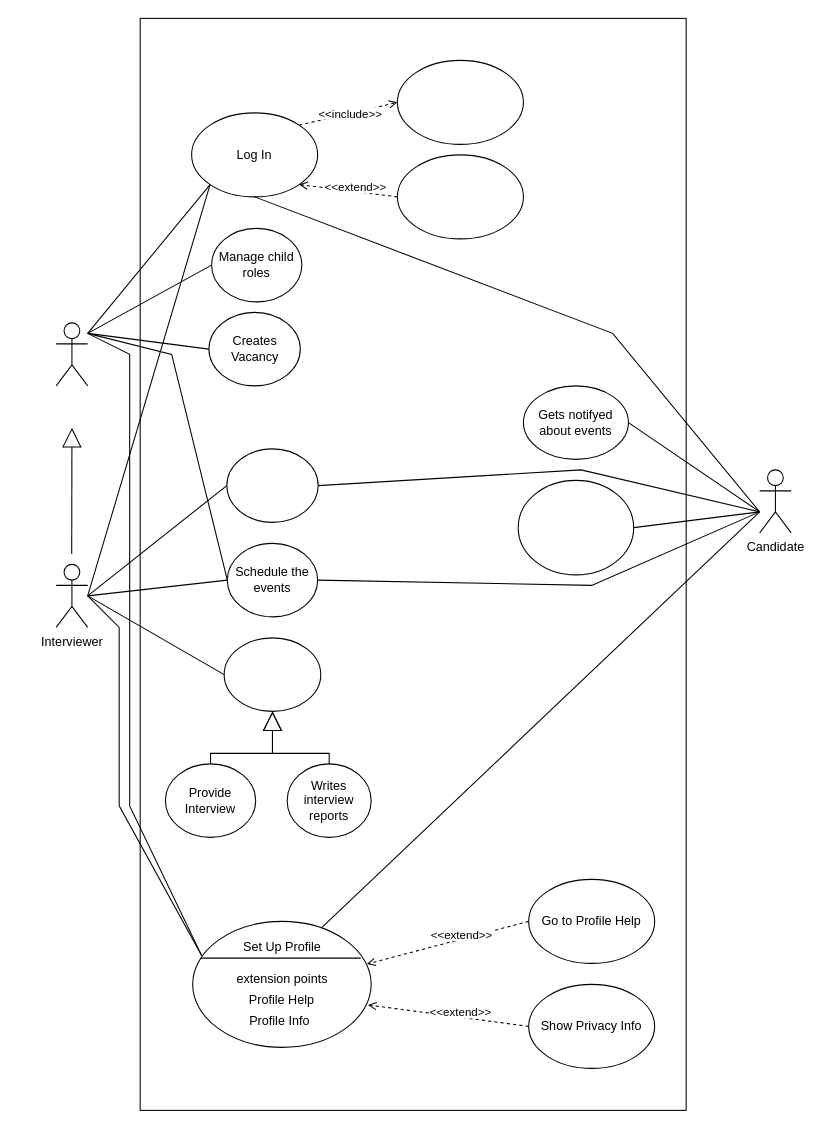
Some shapes in this 822 by 1129 pixel diagram are drawn without their labels. The box of each missing label's shape, as (x1, y1, x2, y2) in pixels:
Company manager: (55, 322, 88, 386)
Display Login Error: (396, 154, 523, 239)
Make Interview Templates: (223, 637, 321, 711)
Manage Candidates: (226, 448, 318, 522)
Verify password: (396, 59, 523, 144)
Views reports on the completion of selection stages: (517, 479, 634, 575)
